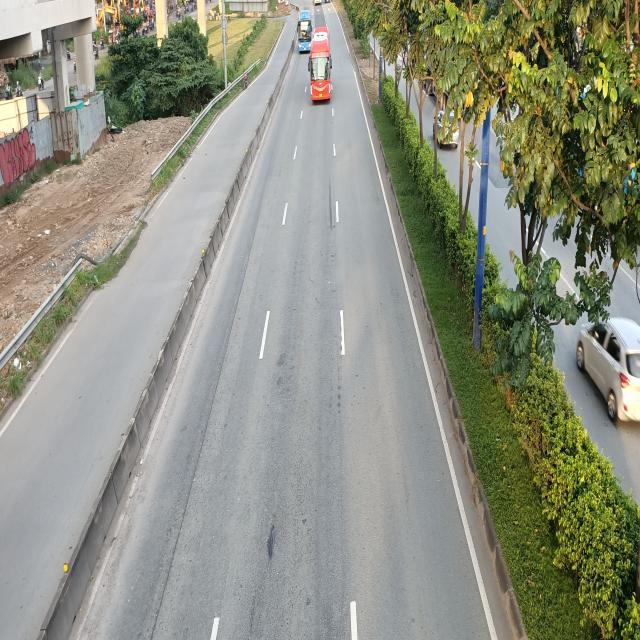coach: (308, 26, 333, 104), (298, 9, 312, 52)
